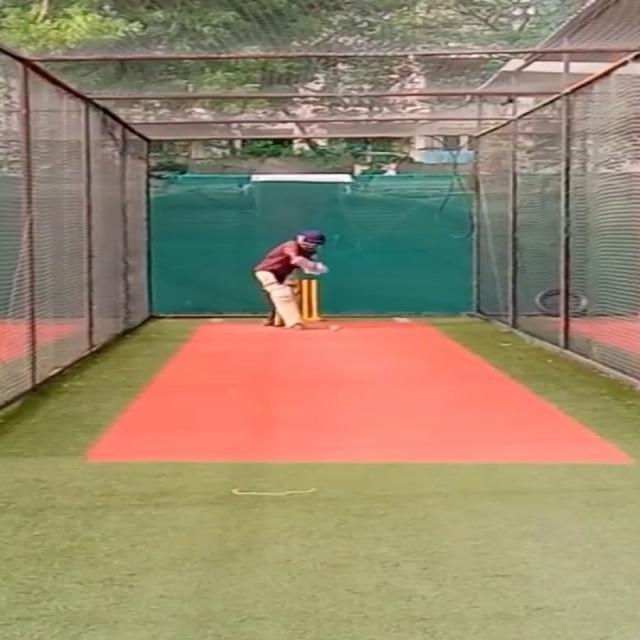ball: (326, 321, 342, 332)
stump: (300, 278, 321, 321)
